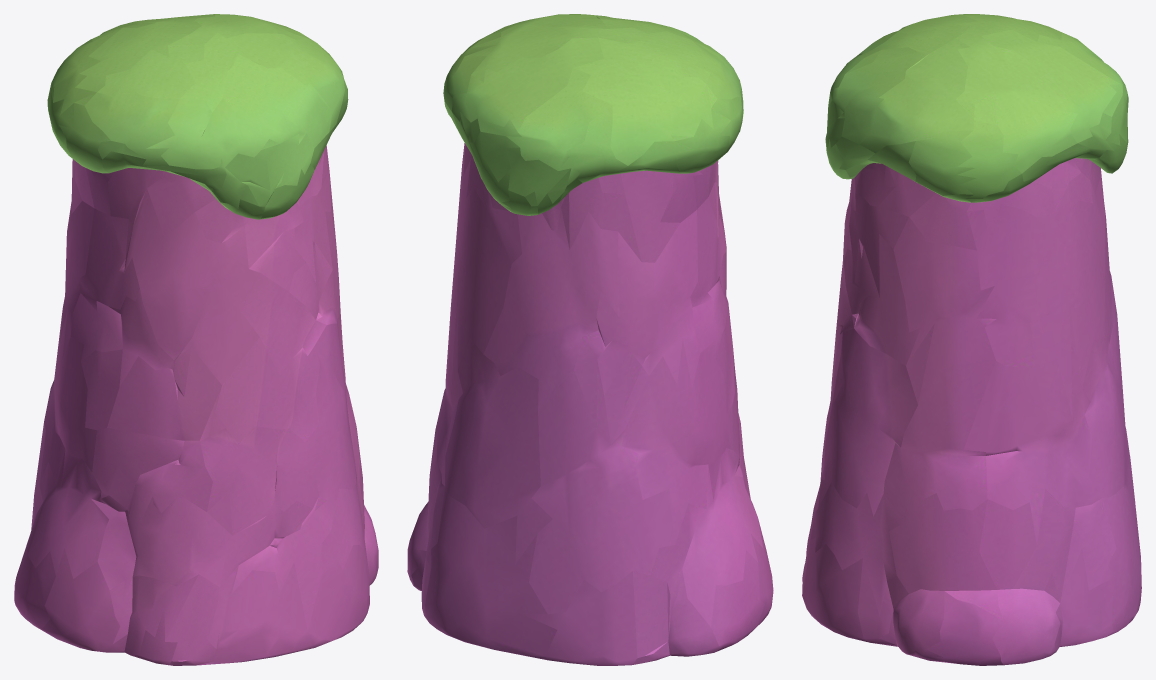
File: dream-pillar.glb
3 renders of one model, left to right at view 1: azimuth 30°, elevation 25°; view 2: azimuth 150°, elevation 25°; view 3: azimuth 270°, elevation 25°, orthographic.
Parts seen in each view (by area): view 1: output_unwrapped; view 2: output_unwrapped; view 3: output_unwrapped.
Part boxes in pixels (left/top/right/bottom): output_unwrapped: left=14, top=14, right=378, bottom=665; output_unwrapped: left=407, top=14, right=773, bottom=665; output_unwrapped: left=802, top=14, right=1141, bottom=665.
Bounding box in the file's own units: 1.17 × 1.9 × 1.07.
1 material, 1 textured.
